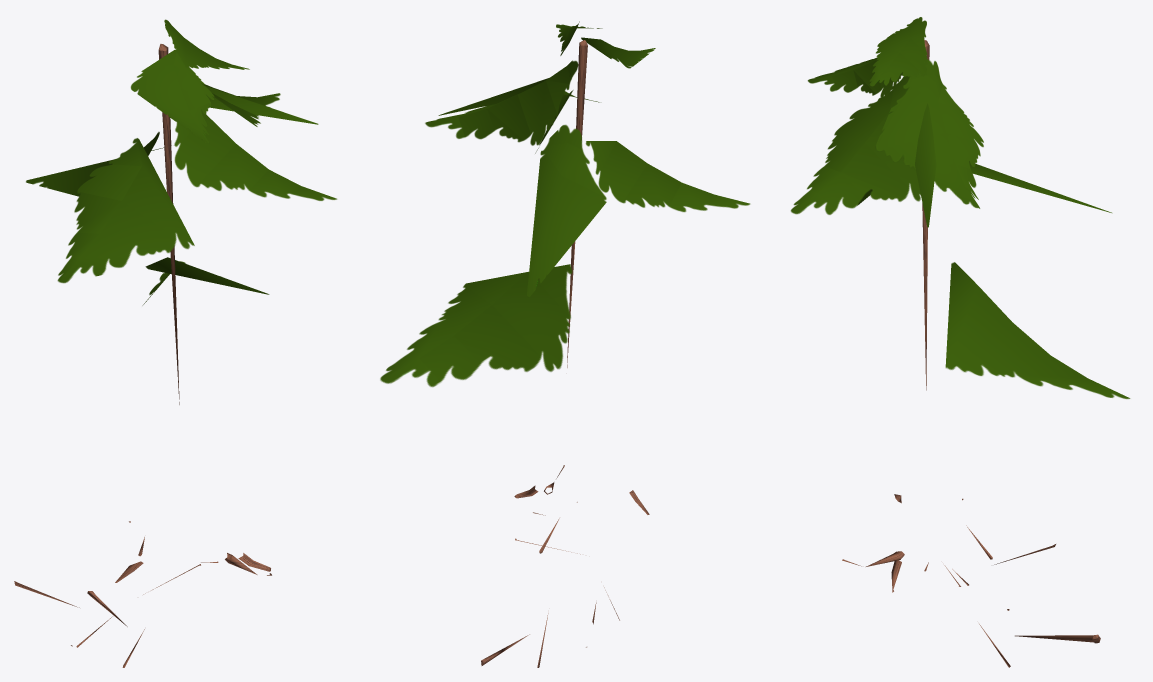
Rendered from pine3_far.glb.
The picture shows the model from 3 angles, left to right: view 1: azimuth 30°, elevation 25°; view 2: azimuth 150°, elevation 25°; view 3: azimuth 270°, elevation 25°; orthographic projection. The views are drawn at different scales.
Parts seen in each view (by area): view 1: Pine_1; view 2: Pine_1; view 3: Pine_1.
Boxes of the visible parts, box(x1,y1,x2,y2) form: Pine_1: box(14, 19, 337, 667); Pine_1: box(380, 21, 750, 667); Pine_1: box(790, 17, 1130, 667).
Bounding box in the file's own units: 2.96 × 6.22 × 3.05.
Materials: 2 (2 with a texture image).
